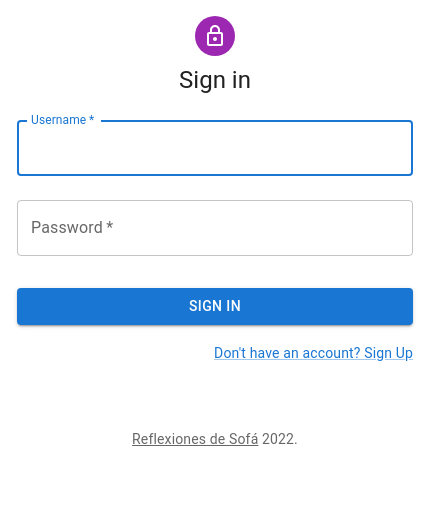
Test: Display error alert when the user cannot be authenticated (Error 401).
Type "username" into the field with id "username".
click(215, 148); type("username")  # box [17,120,413,176]
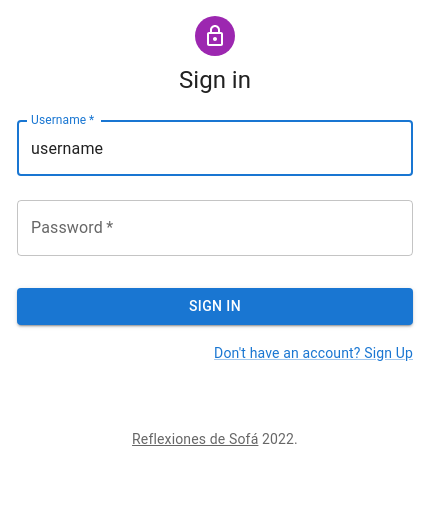
Type "password" into the password field labelled "Password *".
click(215, 228); type("password")  # box [17,200,413,256]
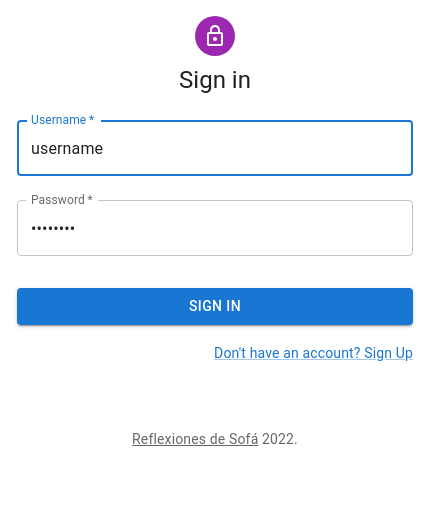
Click the button with test id "sign-in-button".
click(215, 306)  # box [17,288,413,324]
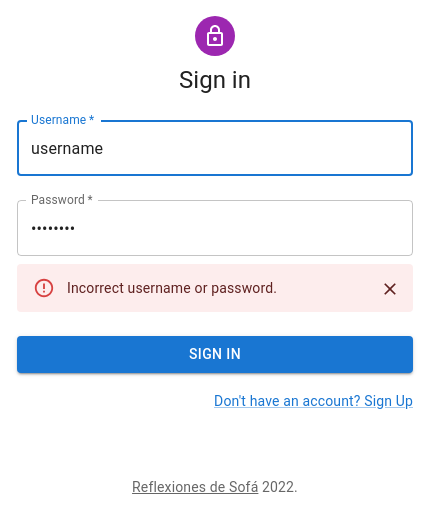
Check: the message "Incorrect username or password." is shown, box [17,264,413,312]
Check: the message with test id "login-error-alert" reads "Incorrect username or password.", box [67,280,277,296]
